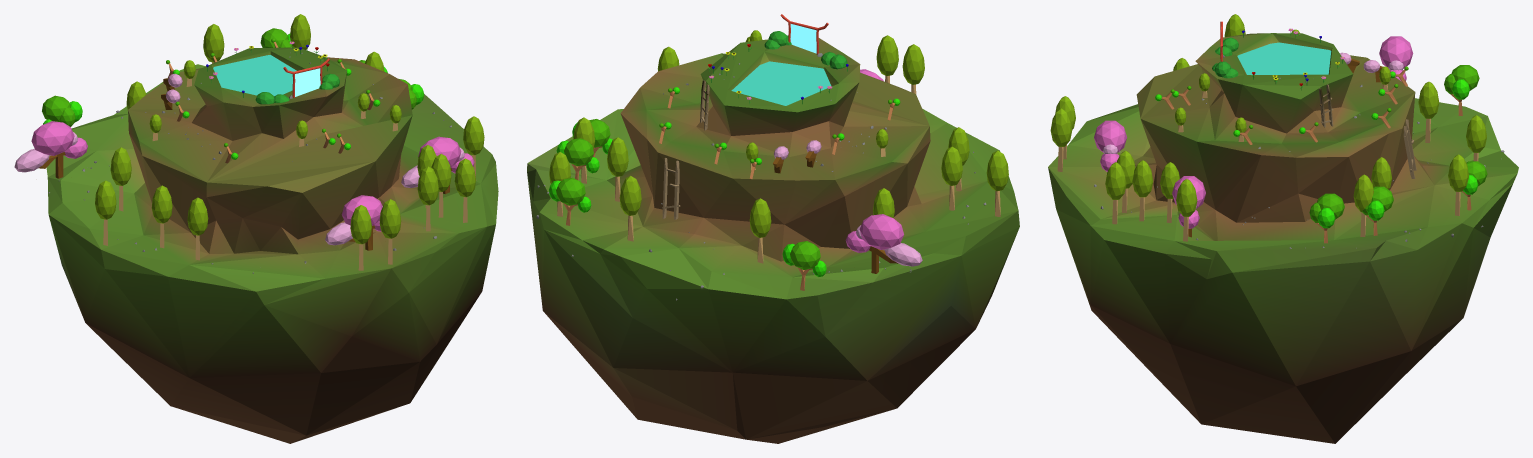
The picture shows the model from 3 angles, left to right: view 1: azimuth 30°, elevation 25°; view 2: azimuth 150°, elevation 25°; view 3: azimuth 270°, elevation 25°; orthographic projection. The views are drawn at different scales.
Parts seen in each view (by area): view 1: Island.016, Water.016, Tree3 - 2.058, Tree3 - 2.056, Tree3 - 2.057, Tree1 - 2.076, Tree2 - 2.155, Tree2 - 2.161, Tree2 - 2.158, Tree2 - 2.160, Tree2 - 2.153, Tree2 - 2.148 (+8 smaller); view 2: Island.016, Water.016, Tree3 - 2.058, Tree1 - 2.076, Tree1 - 2.075, Tree1 - 2.074, Tree2 - 2.158, Tree2 - 2.151, Tree2 - 2.159, Tree2 - 2.152, Tree2 - 2.150, Tree2 - 2.161 (+8 smaller); view 3: Island.016, Water.016, Tree3 - 2.056, Tree3 - 2.058, Tree1 - 2.076, Tree1 - 2.073, Tree2 - 2.155, Tree2 - 2.156, Tree2 - 2.153, Tree1 - 2.074, Tree2 - 2.149, Tree2 - 2.159 (+8 smaller).
Part boxes in pixels (bbox=[...]): Island.016: bbox=[46, 47, 498, 443]; Water.016: bbox=[213, 55, 296, 96]; Tree3 - 2.058: bbox=[14, 121, 87, 178]; Tree3 - 2.056: bbox=[325, 195, 382, 250]; Tree3 - 2.057: bbox=[401, 136, 474, 193]; Tree1 - 2.076: bbox=[42, 95, 82, 126]; Tree2 - 2.155: bbox=[379, 199, 401, 264]; Tree2 - 2.161: bbox=[350, 205, 371, 270]; Tree2 - 2.158: bbox=[95, 180, 116, 245]; Tree2 - 2.160: bbox=[417, 166, 438, 231]; Tree2 - 2.153: bbox=[454, 158, 475, 222]; Tree2 - 2.148: bbox=[110, 147, 131, 211]; Island.016: bbox=[527, 38, 1019, 443]; Water.016: bbox=[731, 61, 831, 105]; Tree3 - 2.058: bbox=[845, 214, 922, 273]; Tree1 - 2.076: bbox=[782, 241, 826, 290]; Tree1 - 2.075: bbox=[549, 177, 591, 225]; Tree1 - 2.074: bbox=[556, 138, 599, 180]; Tree2 - 2.158: bbox=[986, 150, 1008, 216]; Tree2 - 2.151: bbox=[619, 175, 641, 241]; Tree2 - 2.159: bbox=[749, 198, 771, 263]; Tree2 - 2.152: bbox=[941, 146, 962, 210]; Tree2 - 2.150: bbox=[607, 137, 628, 201]; Tree2 - 2.161: bbox=[902, 44, 924, 94]; Island.016: bbox=[1048, 33, 1518, 443]; Water.016: bbox=[1237, 42, 1331, 74]; Tree3 - 2.056: bbox=[1094, 120, 1127, 171]; Tree3 - 2.058: bbox=[1379, 36, 1413, 81]; Tree1 - 2.076: bbox=[1444, 65, 1479, 115]; Tree1 - 2.073: bbox=[1309, 193, 1344, 243]; Tree2 - 2.155: bbox=[1050, 108, 1072, 171]; Tree2 - 2.156: bbox=[1176, 179, 1197, 241]; Tree2 - 2.153: bbox=[1105, 162, 1126, 224]; Tree1 - 2.074: bbox=[1362, 186, 1393, 235]; Tree2 - 2.149: bbox=[1448, 154, 1468, 215]; Tree2 - 2.159: bbox=[1418, 81, 1439, 142].
Size of the model in its own units: 41.96 by 39.87 by 43.73.
